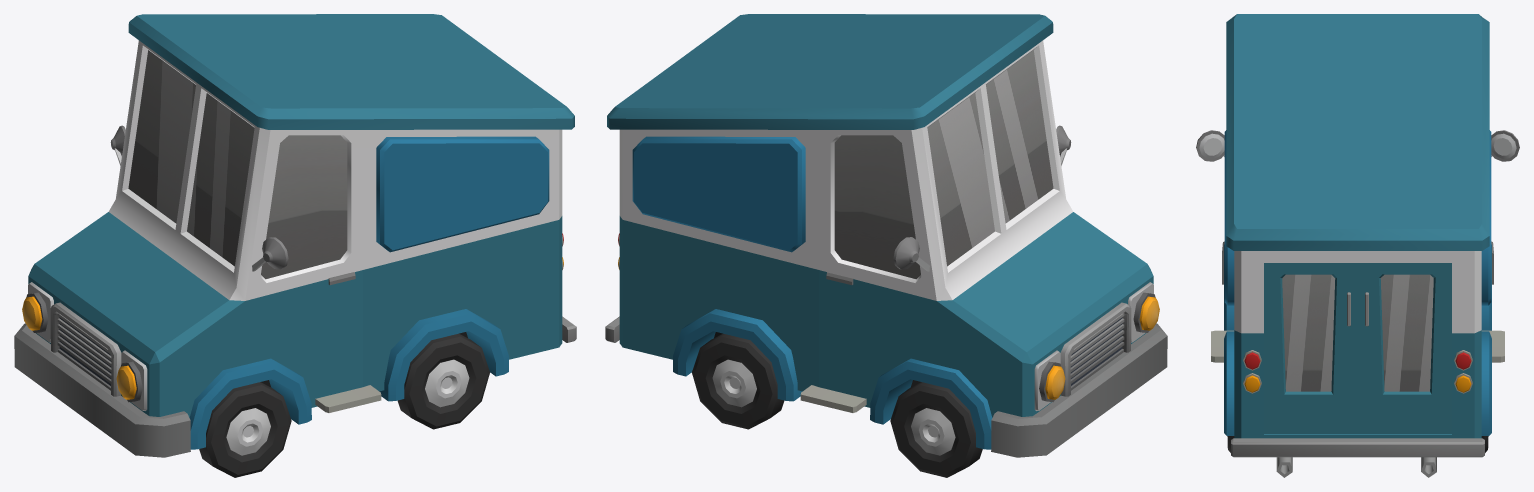
Rendered from Car_15_H.gltf.
The picture shows the model from 3 angles, left to right: view 1: azimuth 30°, elevation 25°; view 2: azimuth 150°, elevation 25°; view 3: azimuth 270°, elevation 25°; orthographic projection. The views are drawn at different scales.
Parts seen in each view (by area): view 1: Car_15_H, RL, FL; view 2: Car_15_H, RR, FR; view 3: Car_15_H.
Boxes of the visible parts, x1,y1,x2,y2 form: Car_15_H: [14, 14, 576, 457]; RL: [397, 333, 489, 429]; FL: [199, 382, 291, 477]; Car_15_H: [605, 14, 1167, 457]; RR: [692, 333, 784, 429]; FR: [890, 382, 982, 477]; Car_15_H: [1196, 14, 1519, 477].
Bounding box in the file's own units: 2.75 × 2.13 × 1.8.
4 materials, 4 textured.
